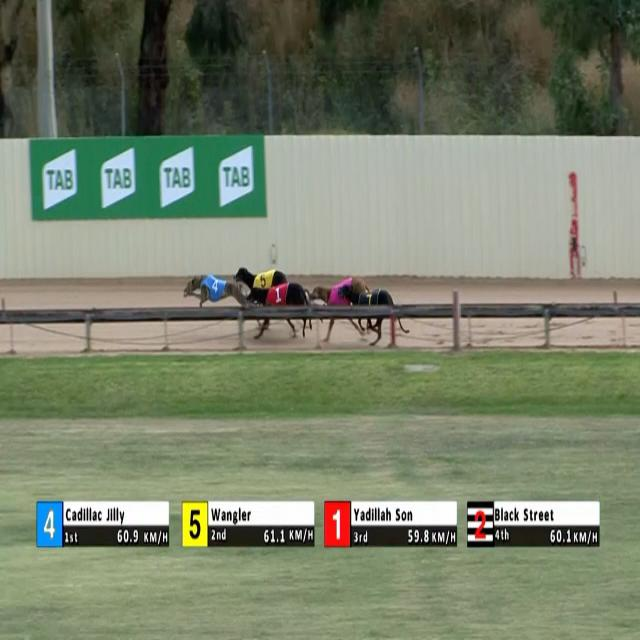dog_eight: (331, 282, 349, 304)
dog_five: (254, 271, 270, 292)
dog_four: (206, 274, 228, 301)
dog_one: (269, 285, 288, 309)
dog_seven: (362, 287, 376, 315)
rail: (0, 303, 640, 326)
